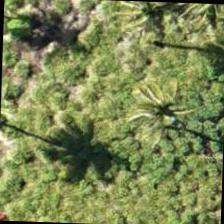Kelapa_Sawit: (116, 61, 208, 154), (95, 0, 188, 64)
